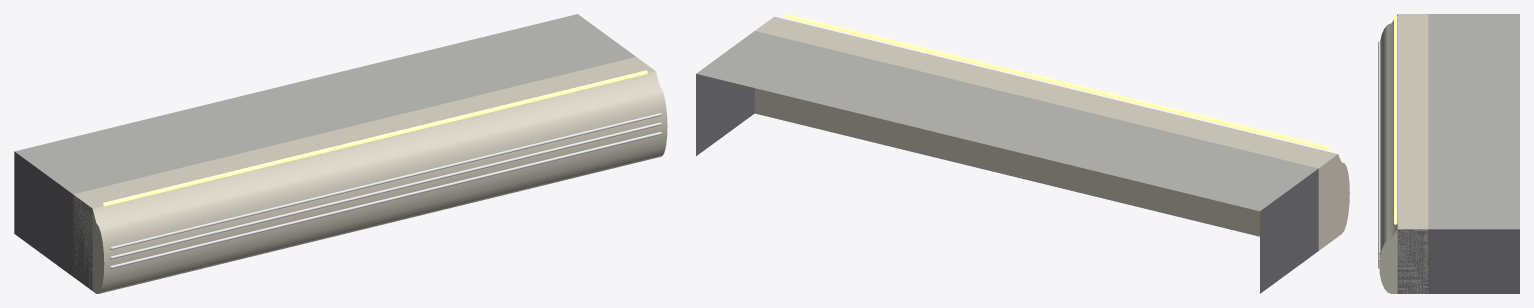
File: retro_cap_band_5.glb
3 views of the same model, side by side, from view 1: azimuth 30°, elevation 25°; view 2: azimuth 150°, elevation 25°; view 3: azimuth 270°, elevation 25° (orthographic). The views are drawn at different scales.
Parts seen in each view (by area): view 1: retro_cap_band_5; view 2: retro_cap_band_5; view 3: retro_cap_band_5.
Boxes of the visible parts, <box> form: retro_cap_band_5: <box>14,14,667,293</box>; retro_cap_band_5: <box>696,14,1349,293</box>; retro_cap_band_5: <box>1378,14,1519,293</box>.
Size of the model in its own units: 5 by 0.7368 by 1.39.
